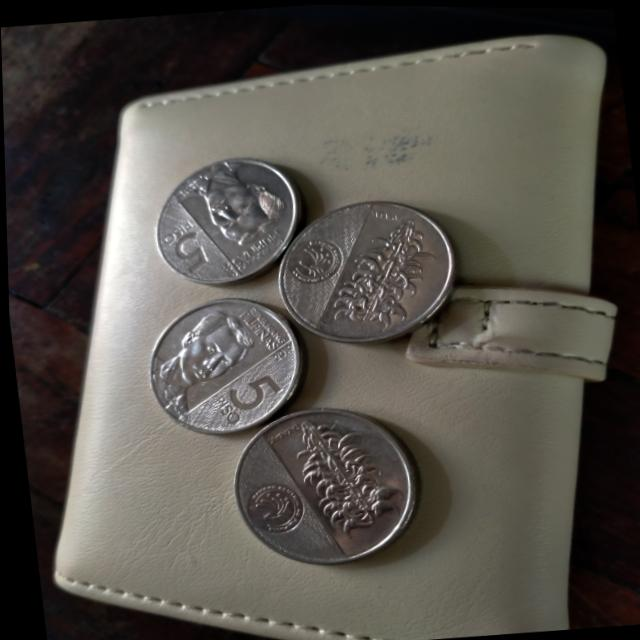5_New_Back: (278, 400, 407, 551), (312, 206, 449, 333)
5_New_Front: (203, 363, 300, 427), (149, 213, 224, 282)
